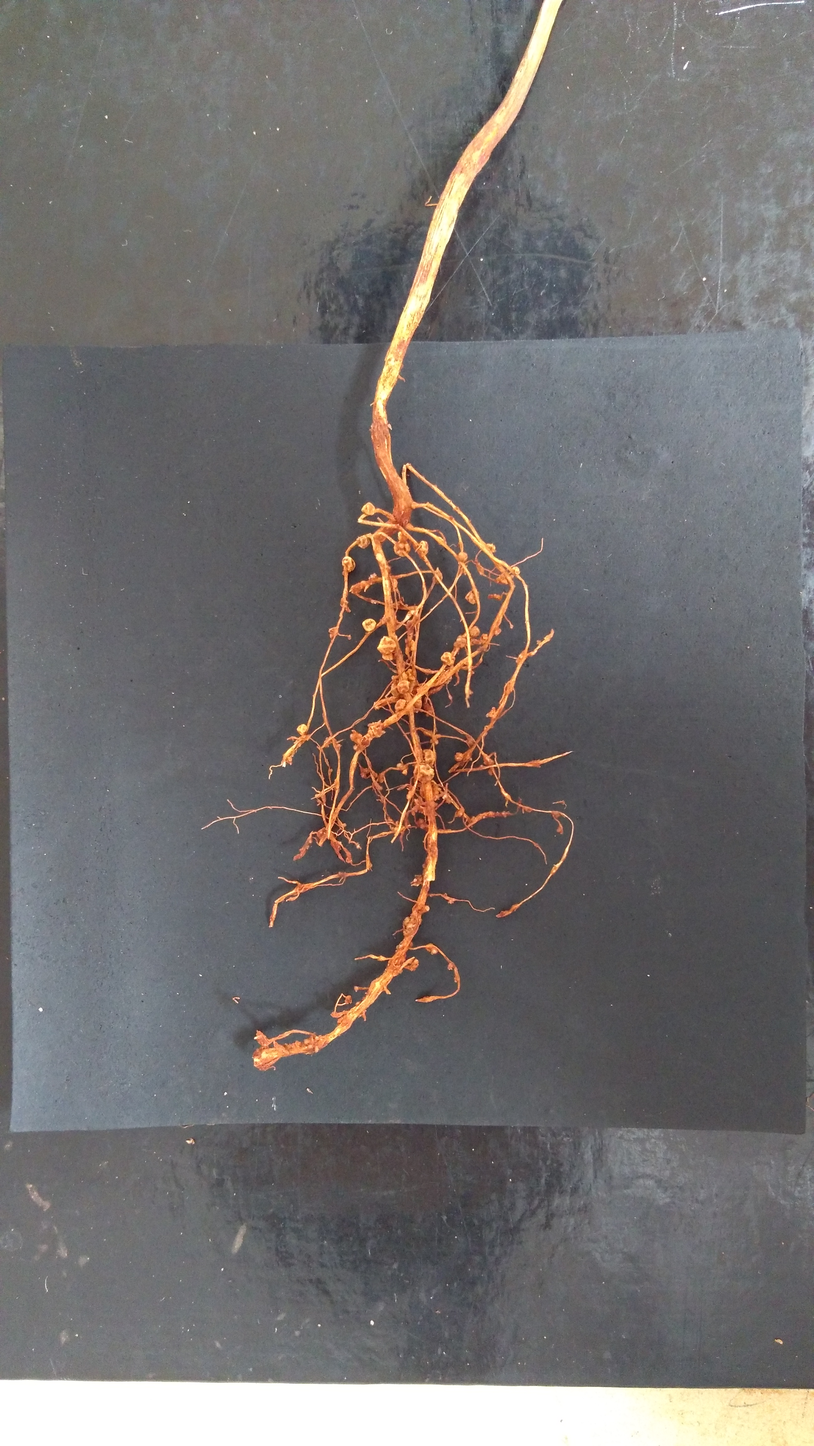nodule: (413, 762, 434, 783), (419, 780, 440, 800), (377, 635, 397, 655), (394, 698, 415, 716), (367, 719, 385, 738), (393, 539, 411, 557), (402, 916, 418, 936), (391, 675, 404, 698), (422, 748, 436, 768), (341, 556, 356, 572), (437, 670, 453, 685), (408, 678, 421, 696), (411, 693, 422, 713), (465, 589, 479, 604), (440, 652, 455, 666), (361, 502, 375, 516), (356, 535, 370, 549), (362, 618, 376, 632), (397, 680, 411, 694), (404, 958, 419, 971), (397, 530, 411, 543), (405, 639, 416, 655), (423, 701, 434, 717), (419, 540, 429, 557), (433, 567, 443, 584), (465, 636, 482, 646), (405, 668, 418, 681), (316, 827, 329, 840), (496, 573, 509, 585), (396, 763, 408, 776), (410, 874, 422, 887), (453, 637, 467, 648), (425, 943, 439, 954), (483, 754, 494, 767), (469, 626, 480, 638), (510, 566, 520, 579), (426, 867, 435, 881), (457, 551, 468, 562), (486, 707, 497, 718), (381, 651, 393, 661), (406, 620, 416, 632), (323, 735, 333, 747), (328, 627, 338, 639), (515, 651, 525, 663), (350, 733, 363, 742), (390, 578, 398, 592), (487, 593, 501, 601), (505, 681, 513, 695), (486, 543, 496, 554), (297, 724, 307, 735), (360, 768, 370, 779), (368, 573, 377, 585), (463, 656, 473, 666), (480, 633, 488, 645), (330, 1011, 343, 1018), (454, 752, 463, 762), (456, 807, 465, 817), (304, 1035, 314, 1044), (340, 597, 348, 608), (375, 552, 383, 562), (337, 1015, 347, 1023), (410, 501, 419, 509), (406, 790, 414, 799), (551, 810, 560, 818), (418, 819, 425, 829), (345, 995, 352, 1005), (377, 955, 387, 962), (394, 820, 400, 831), (414, 798, 422, 806), (430, 738, 439, 745), (314, 1035, 323, 1042), (447, 962, 454, 971), (556, 825, 563, 834), (488, 767, 495, 776), (494, 628, 501, 636), (406, 523, 414, 530), (411, 809, 418, 816), (408, 940, 414, 948), (424, 904, 430, 912), (386, 564, 391, 573), (447, 898, 454, 904), (314, 1045, 319, 1053), (295, 1040, 301, 1046), (536, 640, 542, 646), (353, 986, 358, 992), (342, 823, 346, 828), (356, 1001, 360, 1006)
